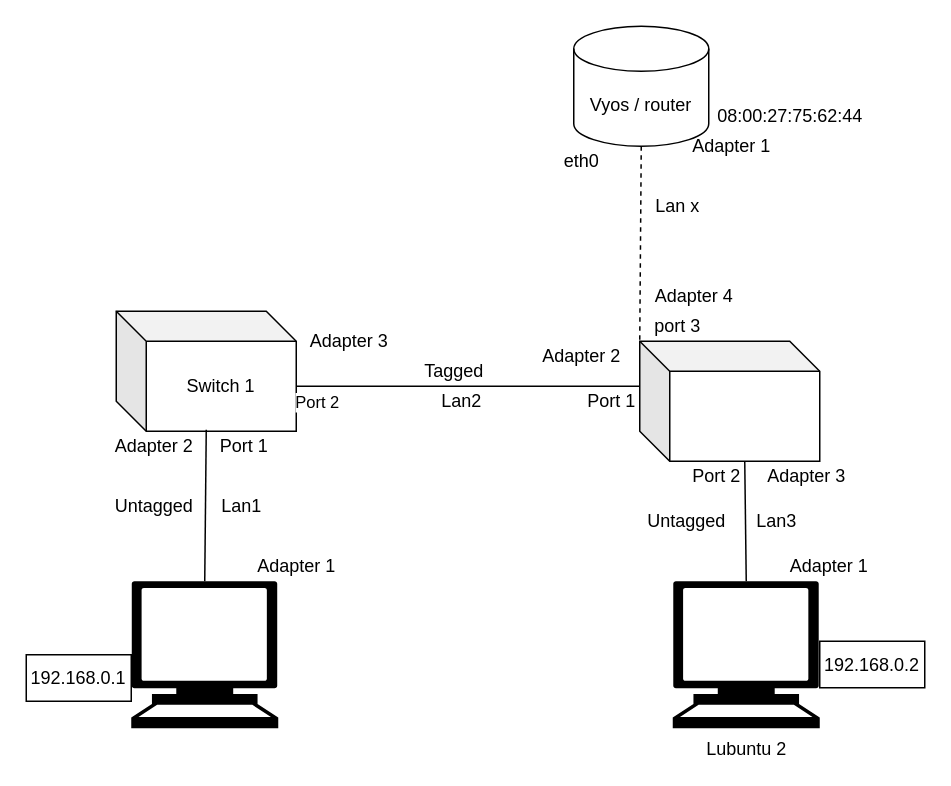
Image size: 951x786. Some labels were removed from this diagram. The shapes that lost their labels are listed below. From the top down, each one's box as (x1, y1, x2, y2) in pixels, then its label:
(638, 340, 820, 461): Switch 2
(130, 580, 278, 728): Lubuntu 1
